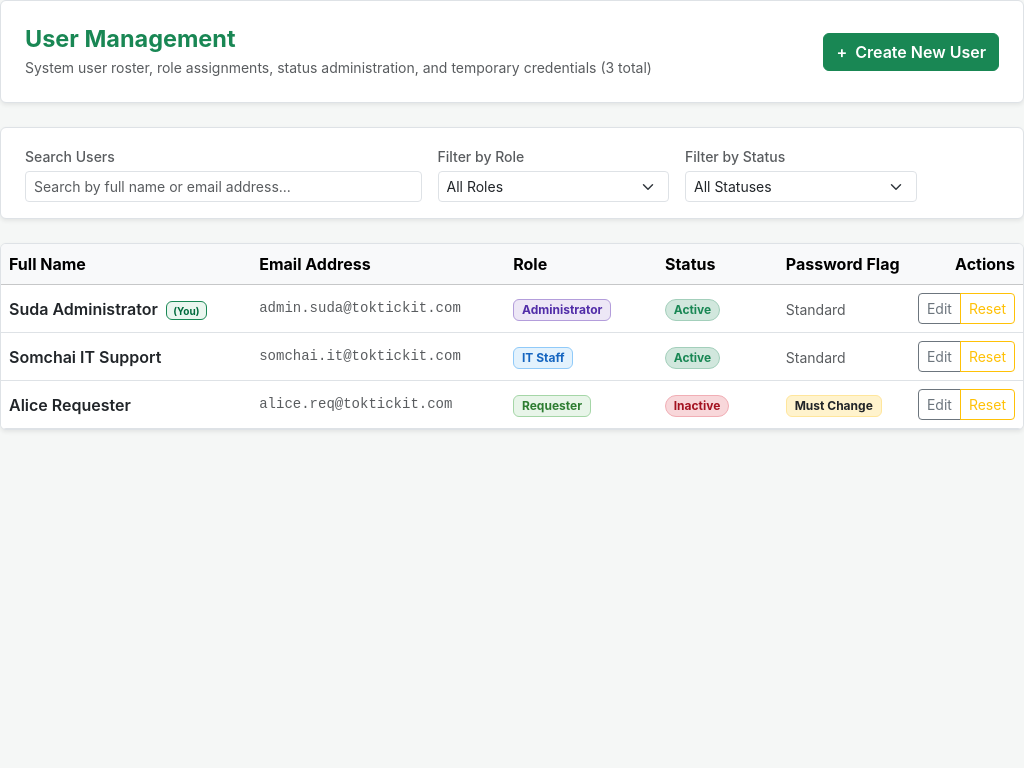
Issue 25: AdminUserManagement Component Unit Tests › ADM-UI-04: Edit Modal enforces BR-18 (disables role and active checkbox when editing self)
The width and height of the screenshot is (1024, 768).
Click edit on own account (id: 1)
Click the button with test id "edit-user-btn-1".
click(939, 309)  # box [918,293,961,324]
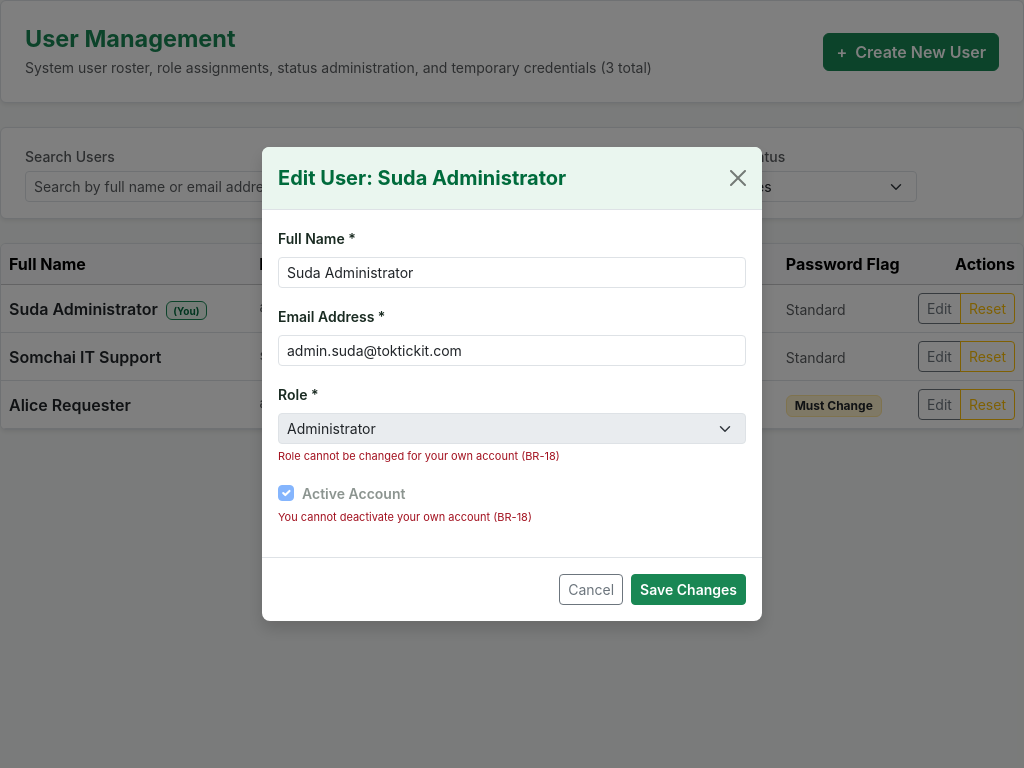
Now the heading "Edit User: Suda Administrator" is shown, box [278,163,566,193]
Now the dropdown labelled "Role *" is disabled, box [278,413,746,444]
Now the checkbox labelled "Active Account" is disabled, box [278,484,294,500]
